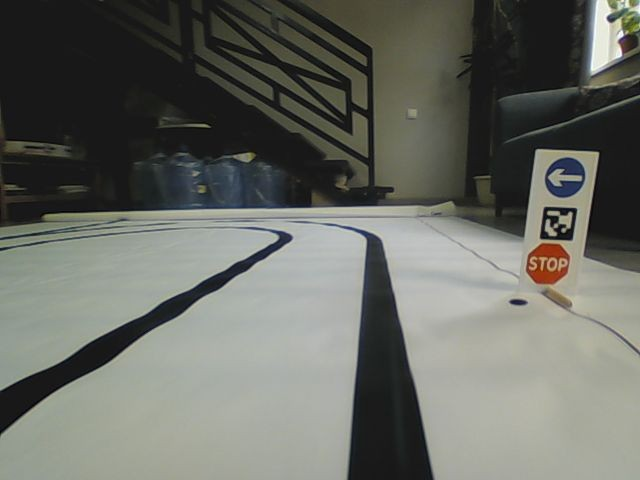Stop: (521, 241, 571, 285)
